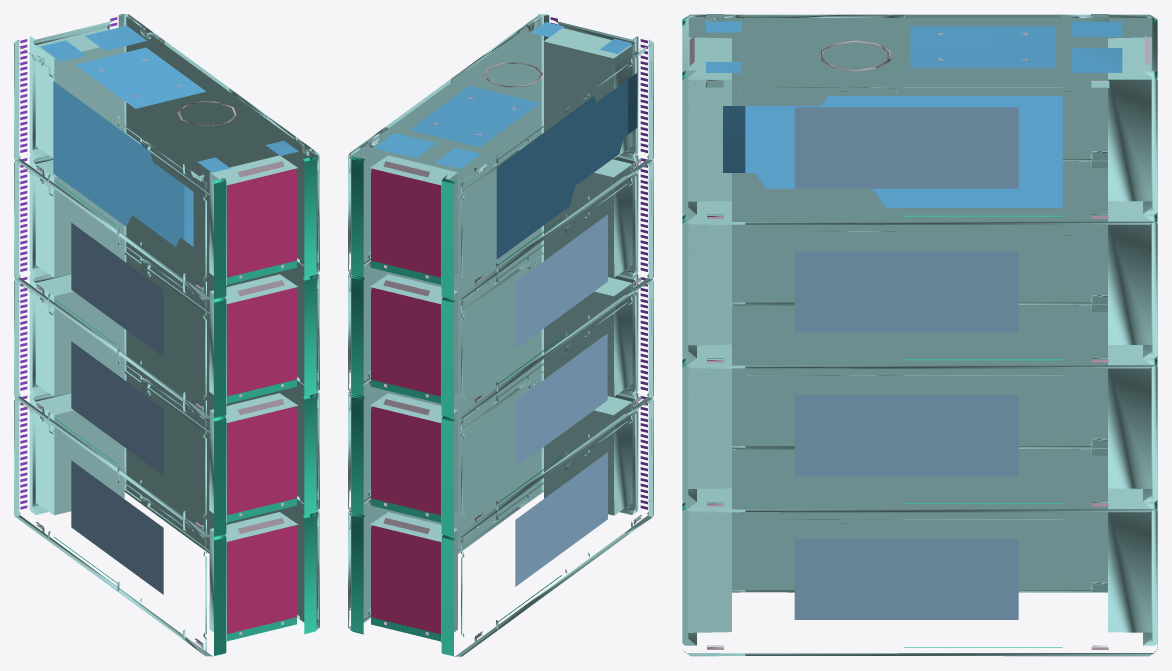
File: storage_container_stack_2_a_lod2.glb
3 views of the same model, side by side, from view 1: azimuth 30°, elevation 25°; view 2: azimuth 150°, elevation 25°; view 3: azimuth 270°, elevation 25° (orthographic). The views are drawn at different scales.
Bounding box in the file's own units: 2.51 × 10.03 × 7.49.
